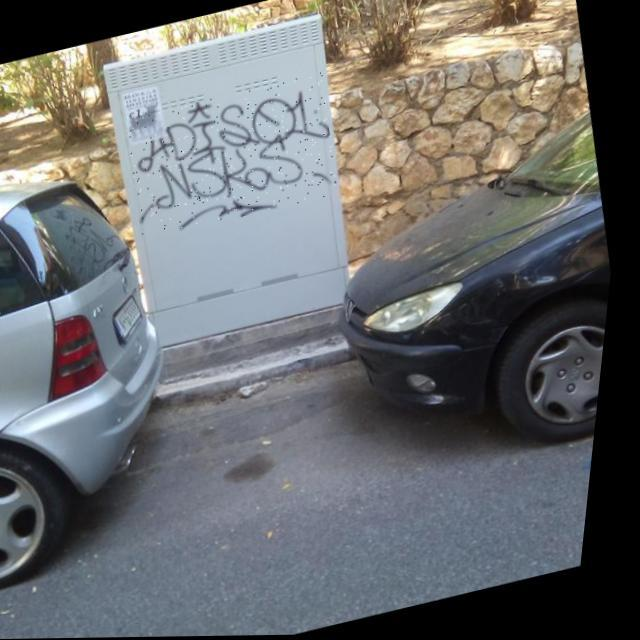-: (118, 72, 352, 241)
